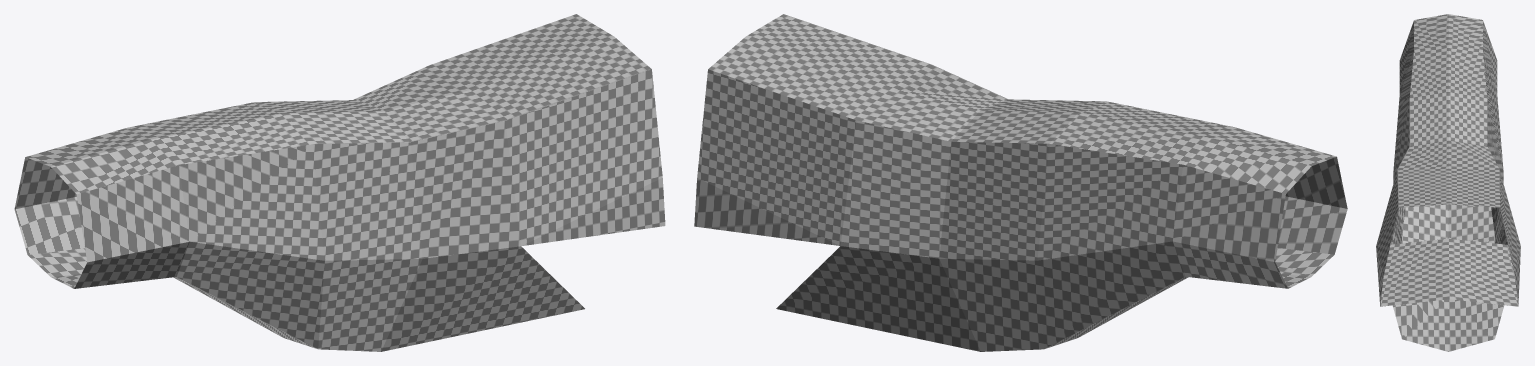
The model's file is prv1o-5.obj.
3 renders of one model, left to right at view 1: azimuth 30°, elevation 25°; view 2: azimuth 150°, elevation 25°; view 3: azimuth 270°, elevation 25°, orthographic. The views are drawn at different scales.
Parts seen in each view (by area): view 1: Cube.006; view 2: Cube.006; view 3: Cube.006.
Boxes of the visible parts, bbox=[...] form: Cube.006: bbox=[14, 14, 665, 351]; Cube.006: bbox=[694, 14, 1347, 351]; Cube.006: bbox=[1376, 14, 1520, 351].
Bounding box in the file's own units: 116 × 49.82 × 38.27.
